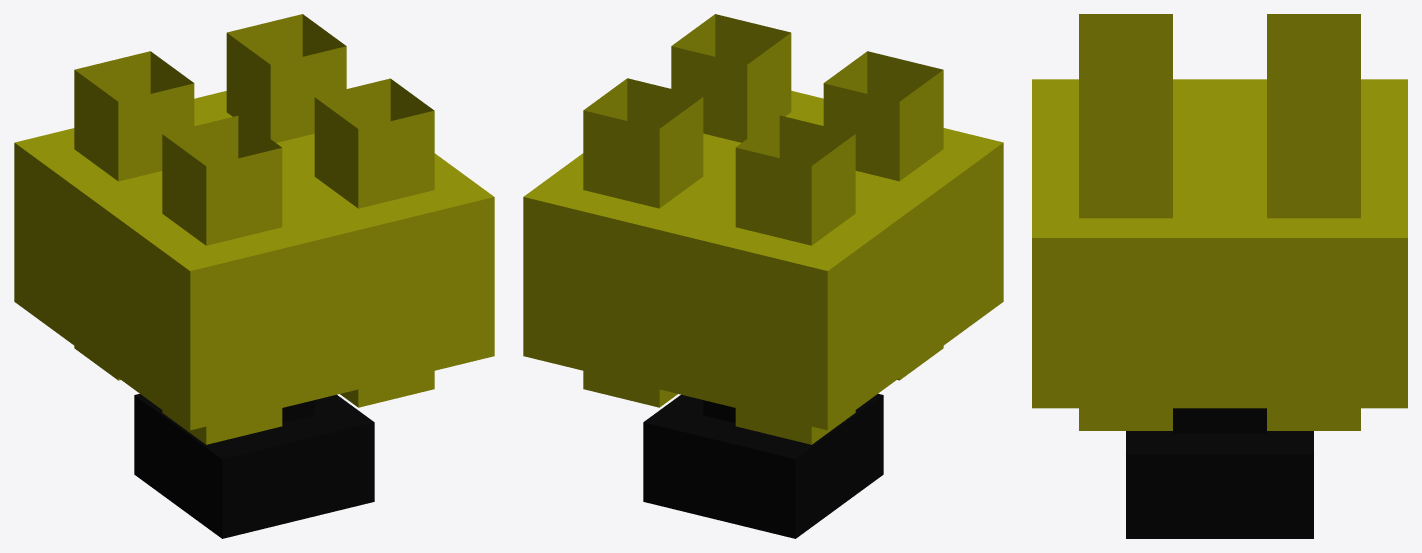
Rendered from FuelTank.fbx.
The picture shows the model from 3 angles, left to right: view 1: azimuth 30°, elevation 25°; view 2: azimuth 150°, elevation 25°; view 3: azimuth 270°, elevation 25°; orthographic projection. The views are drawn at different scales.
Parts seen in each view (by area): view 1: polySurface9, polySurface10, polySurface7, polySurface8; view 2: polySurface7, polySurface8, polySurface9, polySurface10; view 3: polySurface8, polySurface10, polySurface7, polySurface9.
Boxes of the visible parts, box(x1,y1,x2,y2) form: polySurface9: box(102, 115, 342, 538); polySurface10: box(280, 78, 494, 520); polySurface7: box(14, 51, 194, 506); polySurface8: box(194, 14, 346, 162); polySurface7: box(675, 115, 915, 538); polySurface8: box(523, 78, 737, 520); polySurface9: box(823, 51, 1003, 506); polySurface10: box(671, 14, 823, 162); polySurface8: box(1220, 93, 1407, 538); polySurface10: box(1032, 93, 1219, 538); polySurface7: box(1220, 14, 1407, 158); polySurface9: box(1032, 14, 1219, 158).
Size of the model in its own units: 8 by 10 by 8.
